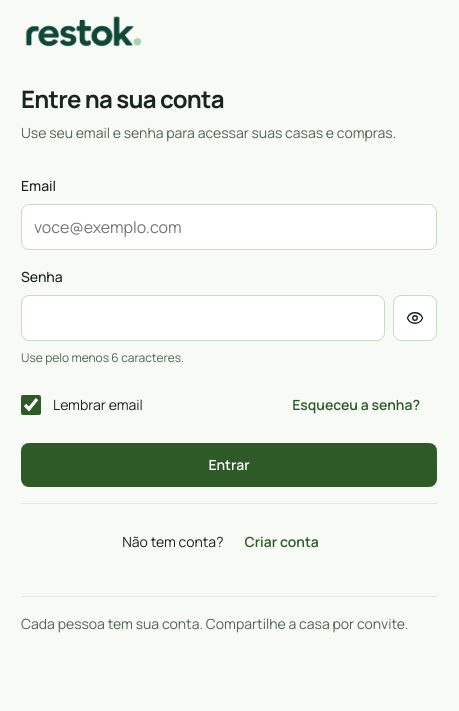
Scenario: login form › asks for an email before sending a reset link
This screenshot has width=459, height=711.
Click the button "Esqueceu a senha?".
click(356, 405)  # box [275,383,437,427]
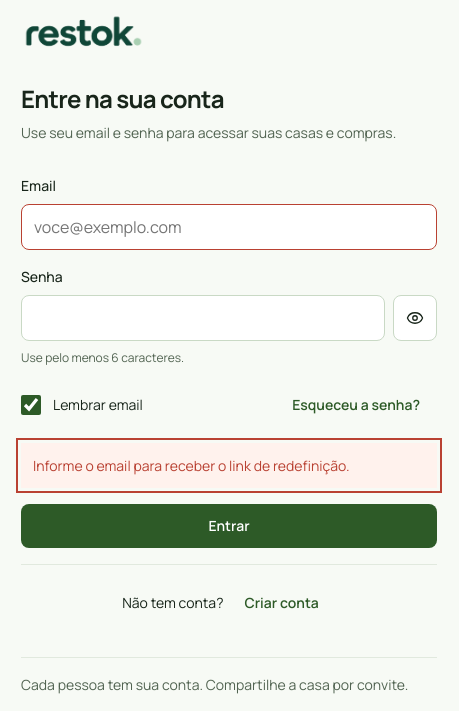
expect the message reads "Informe o email para receber o link de redefinição.": met, box [33,456,350,475]
